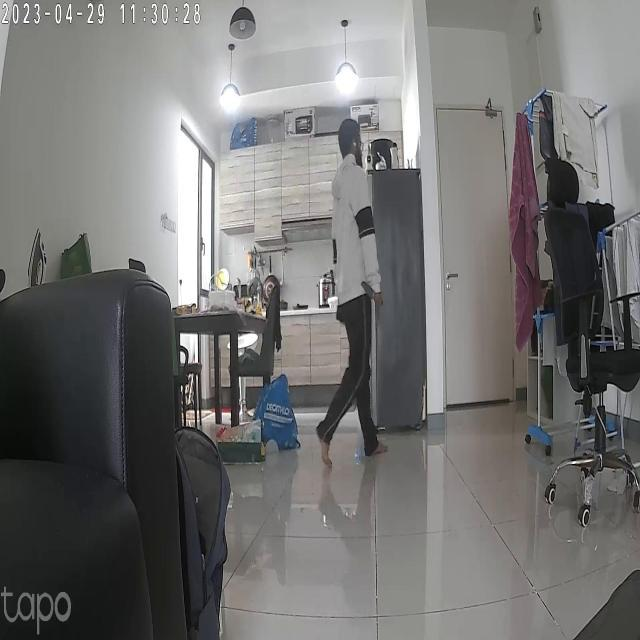Knife: (360, 263, 391, 309)
